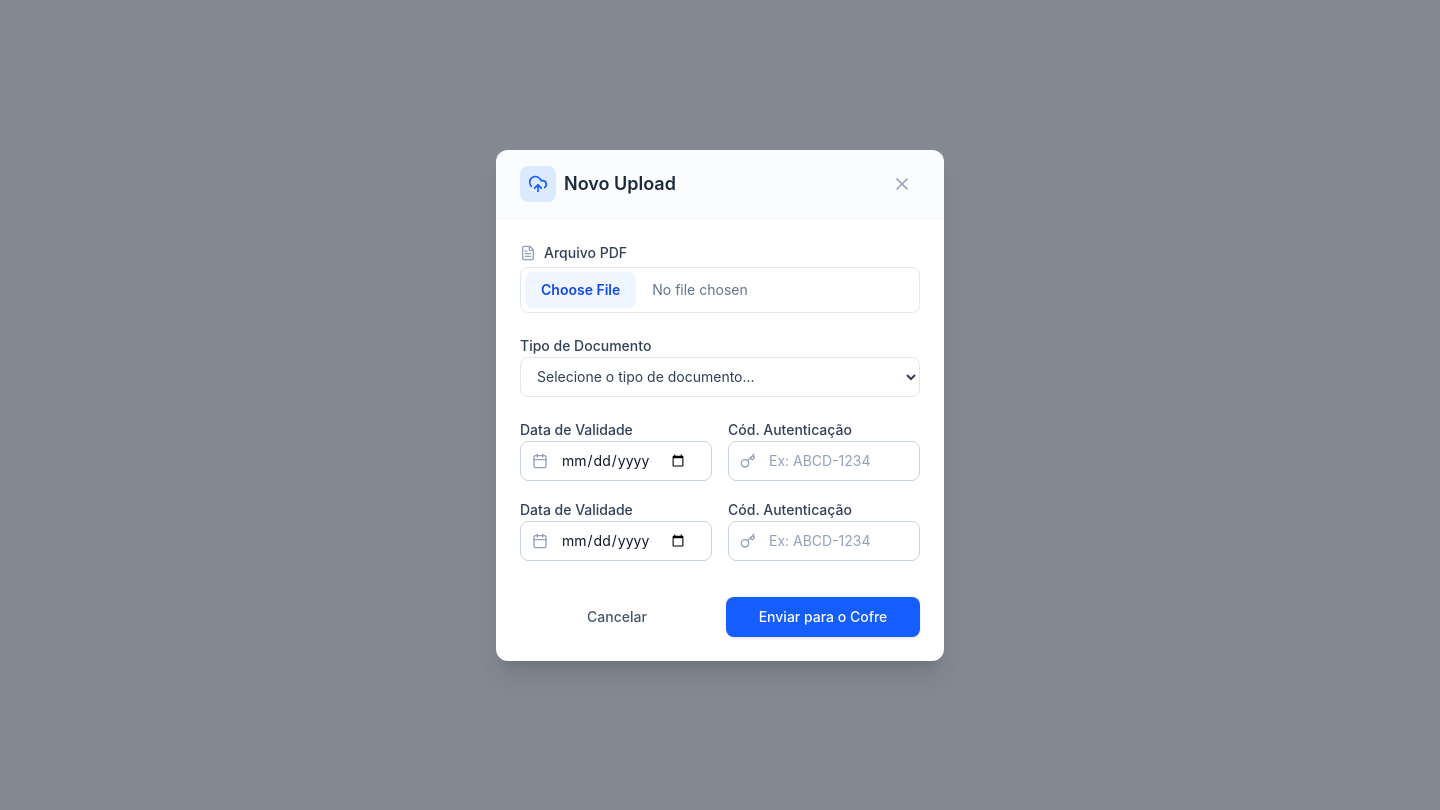
Scenario: UploadModal Component › deve exibir erros de validação se tentar enviar o formulário vazio
The width and height of the screenshot is (1440, 810).
Note: Clica direto no botão de enviar
Step 1. Click the button "Enviar para o Cofre" → (823, 616), box [726,596,920,636]
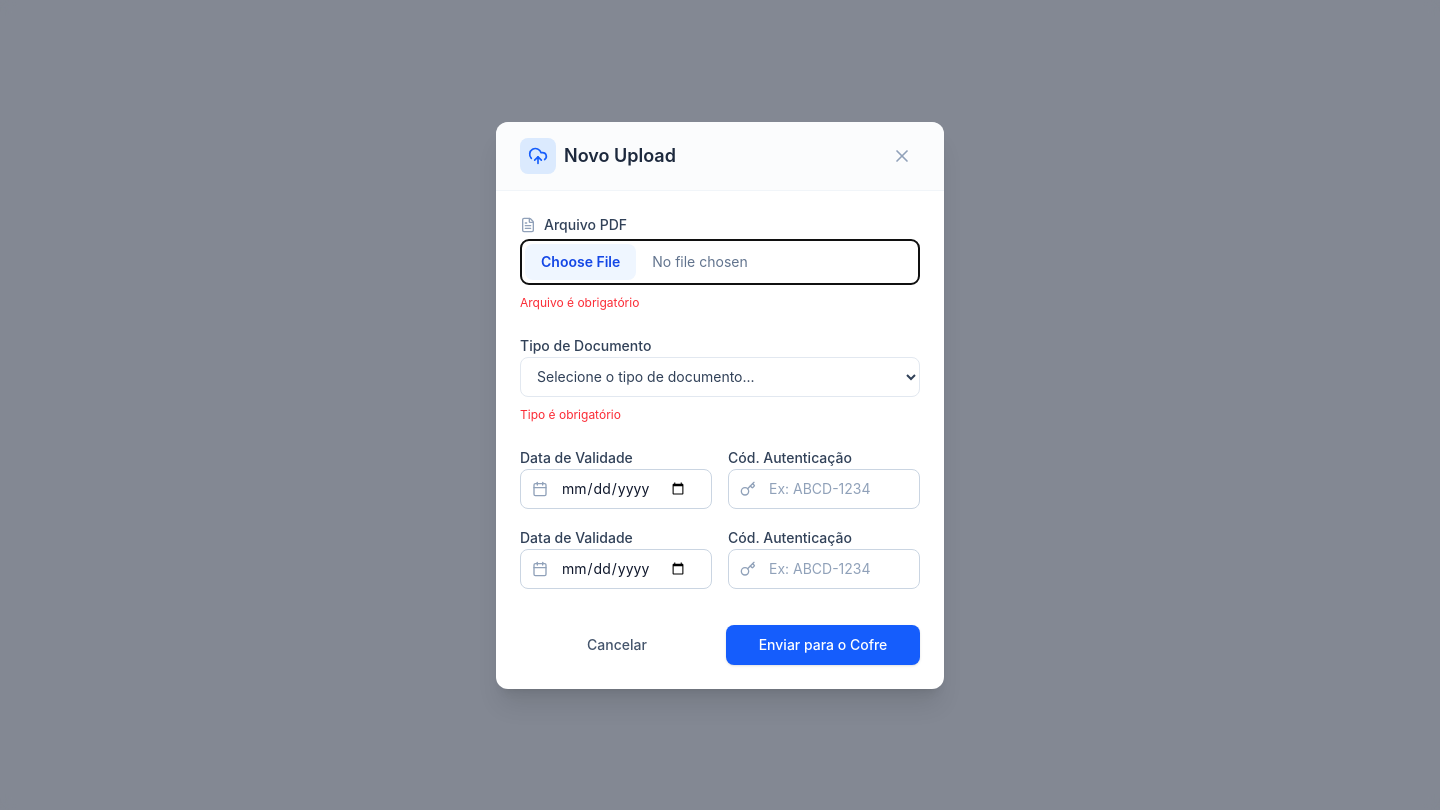
Expected: the text "Arquivo é obrigatório" is shown, [520,294,639,310]
Expected: the text "Tipo é obrigatório" is shown, [520,406,621,422]
